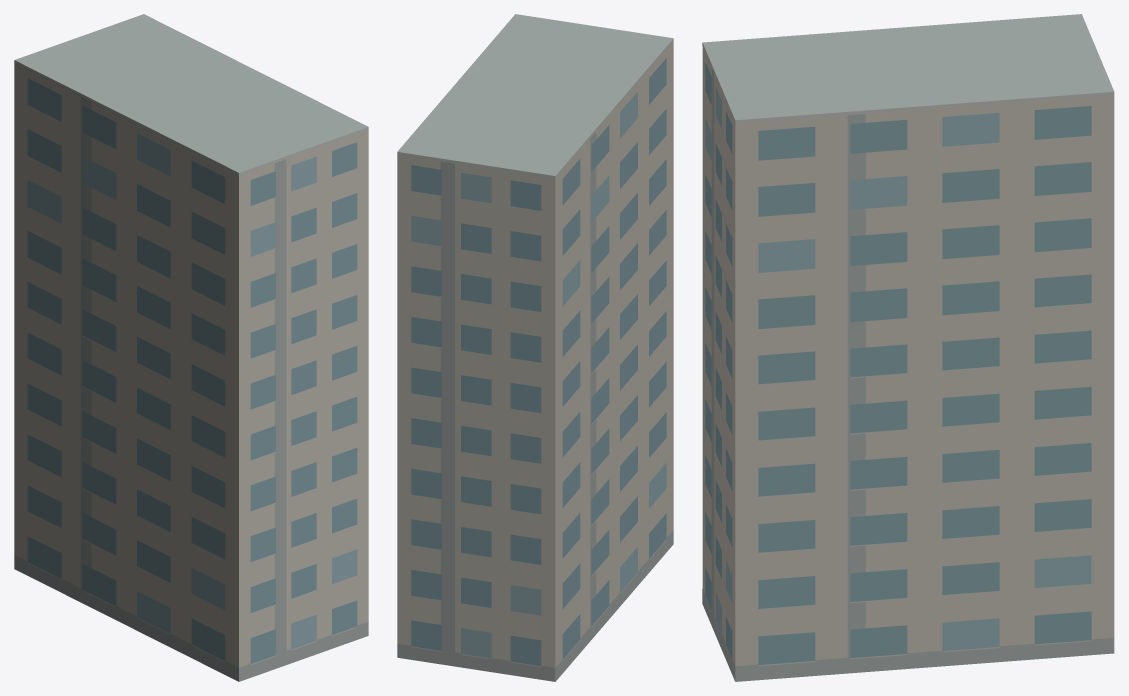
The model's file is residential-9e852bca-356a-4326-a176-f84a2321c34e.glb.
3 views of the same model, side by side, from view 1: azimuth 30°, elevation 25°; view 2: azimuth 150°, elevation 25°; view 3: azimuth 270°, elevation 25° (orthographic). The views are drawn at different scales.
Parts seen in each view (by area): view 1: residential-9e852bca-356a-4326-a176-f84a2321c34e.tmp; view 2: residential-9e852bca-356a-4326-a176-f84a2321c34e.tmp; view 3: residential-9e852bca-356a-4326-a176-f84a2321c34e.tmp.
Boxes of the visible parts, left/top/right/bottom form: residential-9e852bca-356a-4326-a176-f84a2321c34e.tmp: left=14, top=14, right=368, bottom=681; residential-9e852bca-356a-4326-a176-f84a2321c34e.tmp: left=397, top=14, right=673, bottom=681; residential-9e852bca-356a-4326-a176-f84a2321c34e.tmp: left=702, top=14, right=1114, bottom=681.
Size of the model in its own units: 16.24 by 40 by 26.59.
